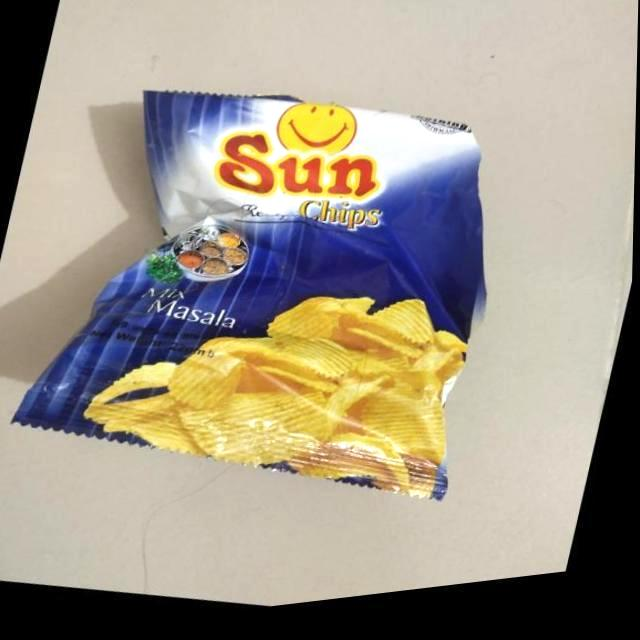packet: (0, 33, 540, 555)
